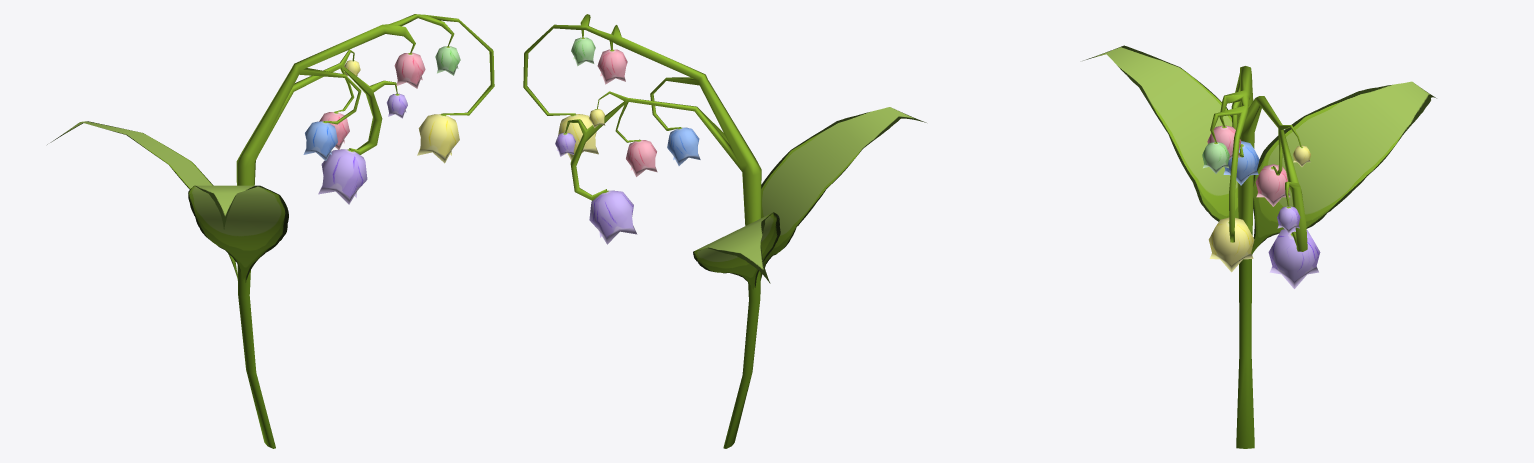
Rendered from flower-02.FBX.
The picture shows the model from 3 angles, left to right: view 1: azimuth 30°, elevation 25°; view 2: azimuth 150°, elevation 25°; view 3: azimuth 270°, elevation 25°; orthographic projection. The views are drawn at different scales.
Parts seen in each view (by area): view 1: Stem, Leaf02, Flower00, Leaf00, Flower04, Flower05, Flower06, Leaf03, Flower07, Flower02; view 2: Stem, Leaf02, Leaf00, Leaf03, Flower00, Flower05, Flower02, Flower06, Flower04, Leaf01, Flower07; view 3: Leaf00, Leaf02, Stem, Leaf01, Leaf03, Flower00, Flower04, Flower02, Flower05, Flower07, Flower06.
Part boxes in pixels (x1,y1,x2,y2): Stem: (236, 14, 494, 448); Leaf02: (188, 185, 288, 282); Flower00: (318, 149, 367, 204); Leaf00: (47, 121, 237, 279); Flower04: (417, 114, 459, 163); Flower05: (303, 121, 337, 160); Flower06: (394, 52, 425, 88); Leaf03: (189, 185, 288, 280); Flower07: (435, 46, 460, 75); Flower02: (319, 112, 349, 149); Stem: (523, 14, 761, 448); Leaf02: (760, 107, 926, 280); Leaf00: (693, 212, 780, 289); Leaf03: (760, 107, 909, 276); Flower00: (589, 190, 637, 244); Flower05: (667, 127, 700, 165); Flower02: (626, 140, 657, 176); Flower06: (597, 49, 627, 84); Flower04: (558, 114, 598, 160); Leaf01: (693, 213, 779, 288); Flower07: (571, 37, 595, 66); Leaf00: (1252, 81, 1436, 253); Leaf02: (1083, 45, 1238, 221); Stem: (1210, 66, 1307, 448); Leaf01: (1252, 87, 1431, 252); Leaf03: (1098, 48, 1237, 219); Flower00: (1268, 227, 1320, 288); Flower04: (1208, 217, 1254, 272); Flower02: (1255, 164, 1290, 206); Flower05: (1223, 141, 1259, 185); Flower07: (1202, 142, 1229, 173); Flower06: (1207, 125, 1241, 159).
Size of the model in its own units: 1.68 by 1.49 by 1.66.
